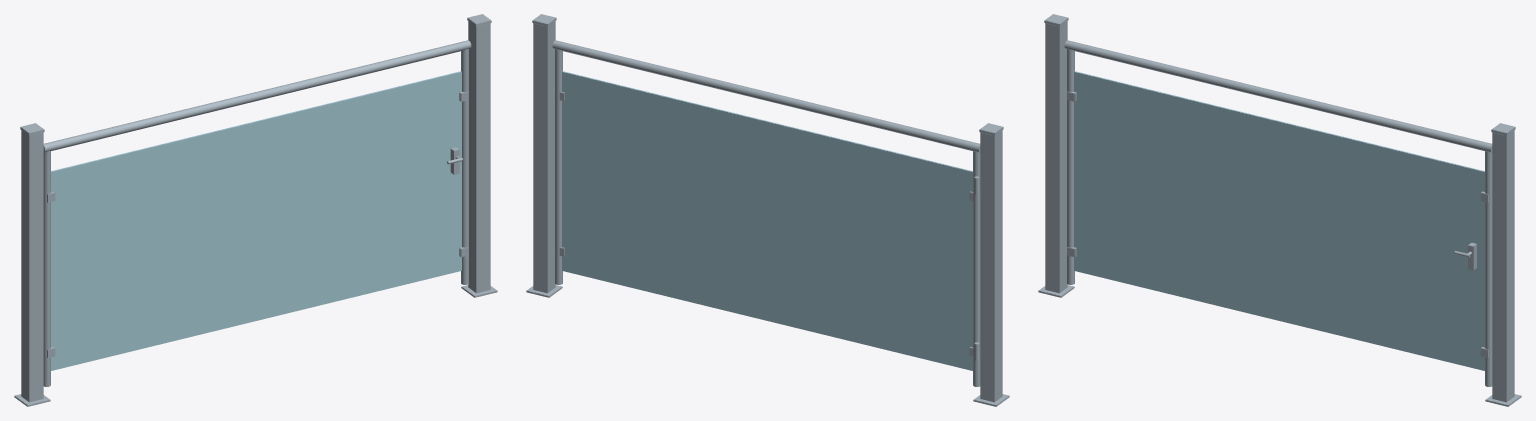
The model's file is 15-jednokrilna.glb.
3 renders of one model, left to right at view 1: azimuth 30°, elevation 25°; view 2: azimuth 150°, elevation 25°; view 3: azimuth 330°, elevation 25°, orthographic.
Parts seen in each view (by area): view 1: Ispuna_staklo.001, Stub_levi.057, Stub_desni.057, Ram_rukohvat.011, Ram_inox_uspravni.022, Ram_inox_uspravni.023; view 2: Ispuna_staklo.001, Stub_levi.057, Stub_desni.057, Ram_rukohvat.011, Ram_inox_uspravni.022, Ram_inox_uspravni.023; view 3: Ispuna_staklo.001, Stub_desni.057, Stub_levi.057, Ram_rukohvat.011, Ram_inox_uspravni.023, Ram_inox_uspravni.022.
Boxes of the visible parts, x1,y1,x2,y2 form: Ispuna_staklo.001: [51, 71, 461, 370]; Stub_levi.057: [21, 130, 43, 402]; Stub_desni.057: [468, 21, 490, 293]; Ram_rukohvat.011: [43, 40, 471, 152]; Ram_inox_uspravni.022: [43, 151, 50, 386]; Ram_inox_uspravni.023: [461, 49, 468, 284]; Ispuna_staklo.001: [562, 71, 972, 370]; Stub_levi.057: [980, 130, 1002, 402]; Stub_desni.057: [533, 21, 555, 293]; Ram_rukohvat.011: [552, 40, 980, 152]; Ram_inox_uspravni.022: [973, 151, 980, 386]; Ram_inox_uspravni.023: [555, 49, 562, 284]; Ispuna_staklo.001: [1074, 71, 1484, 370]; Stub_desni.057: [1492, 130, 1514, 402]; Stub_levi.057: [1045, 21, 1067, 293]; Ram_rukohvat.011: [1064, 40, 1492, 152]; Ram_inox_uspravni.023: [1485, 151, 1492, 386]; Ram_inox_uspravni.022: [1067, 49, 1074, 284].
Bounding box in the file's own units: 3.26 × 1.8 × 0.19.
